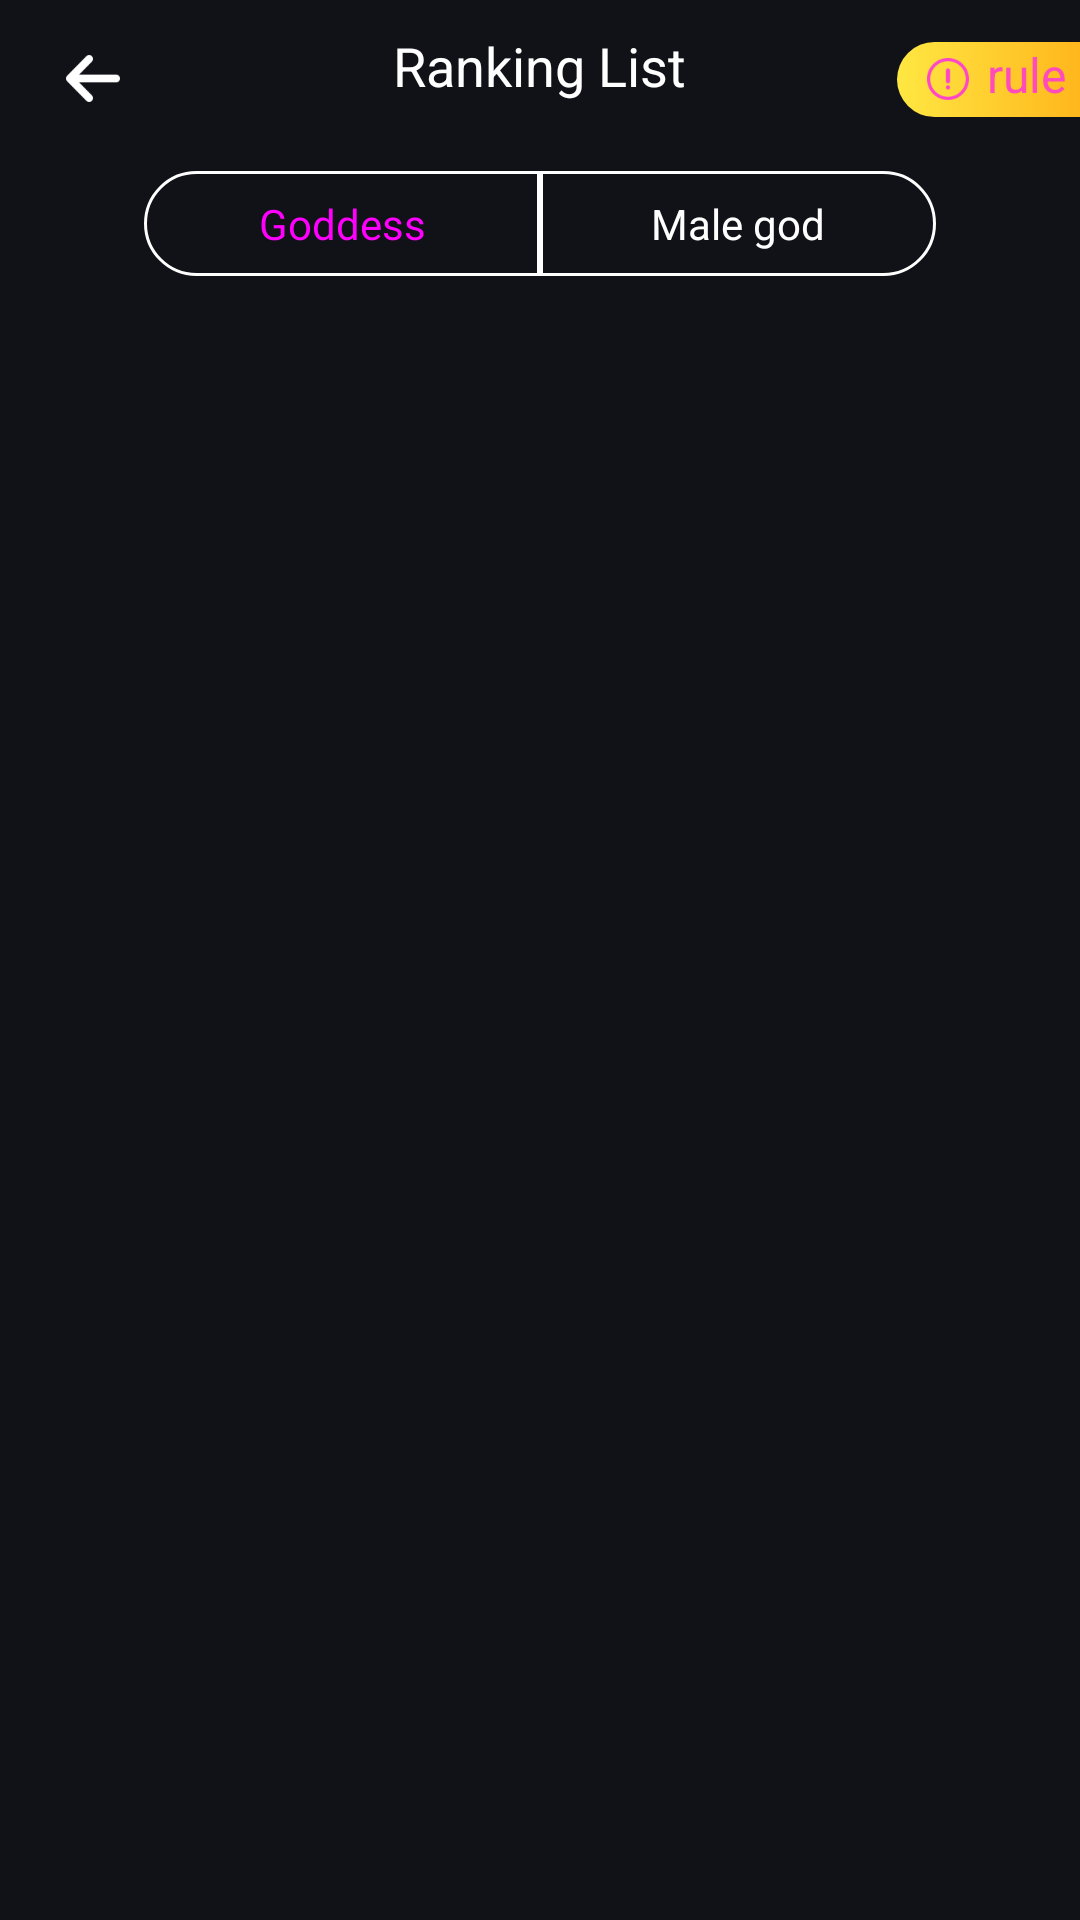

Where to tap for icons on this 1080px×1920px app screen, as [x,y]:
back up: [93,78]
